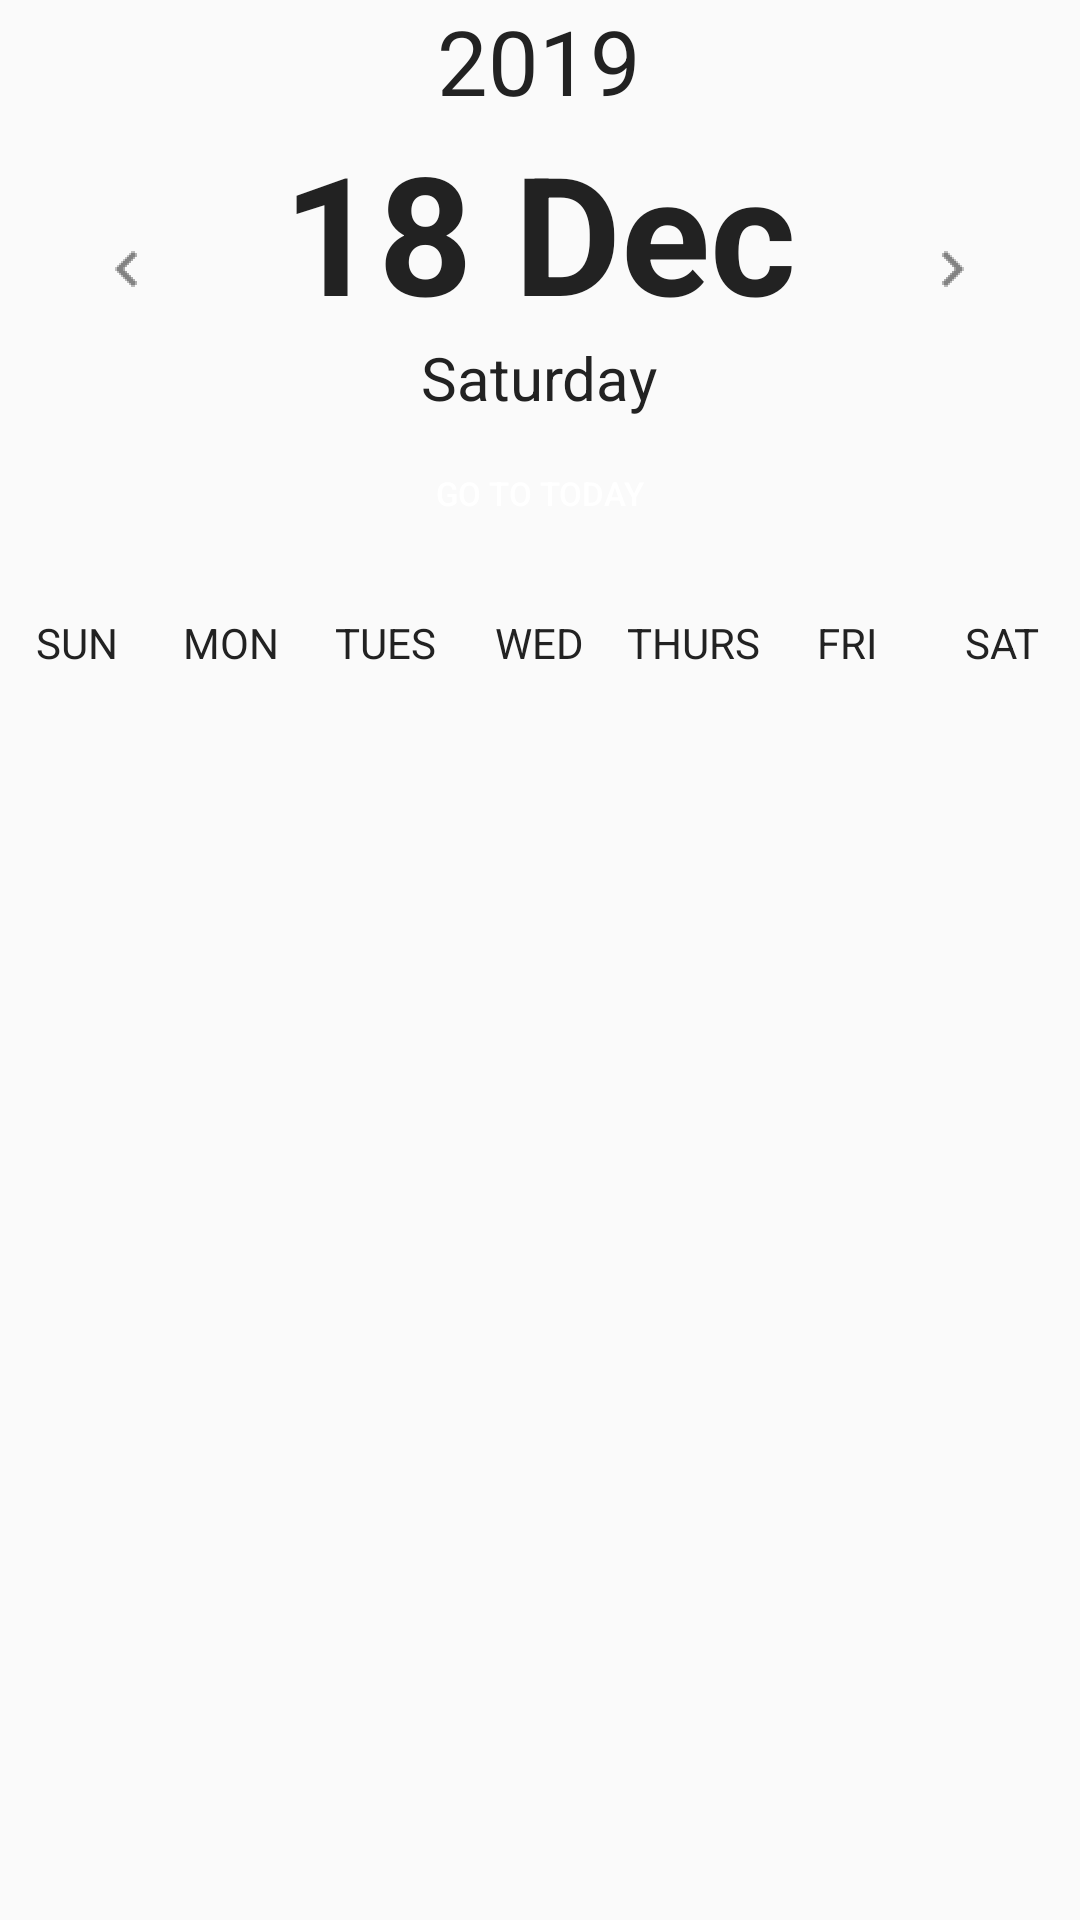

Locate icon controls on the screen. Image size 1080x1920, boxes as (x1, y1, x2, y2).
arrow left: (115, 251, 137, 287)
arrow right: (942, 251, 964, 287)
